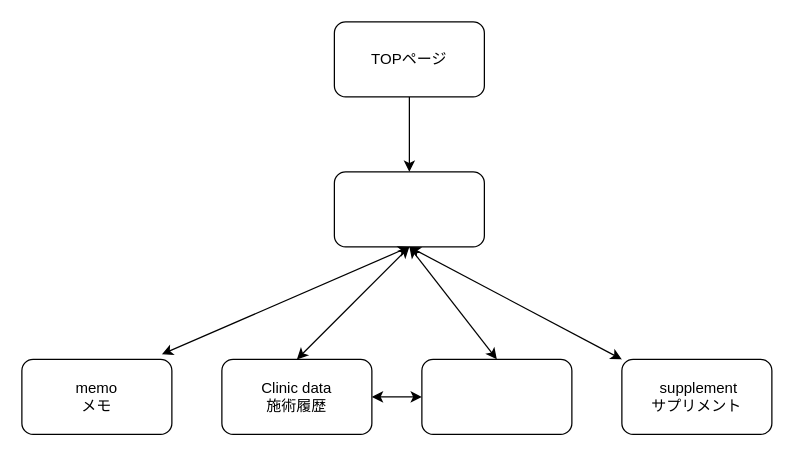
Image size: 794x456. Some labels were removed from this diagram. Here are the shapes that lost their labels. From the top down, the box of each, then its label:
(333, 171, 484, 247): マイページ
(421, 358, 572, 434): calendar カレンダー
